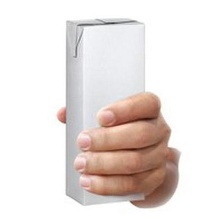carton: (53, 11, 152, 209)
